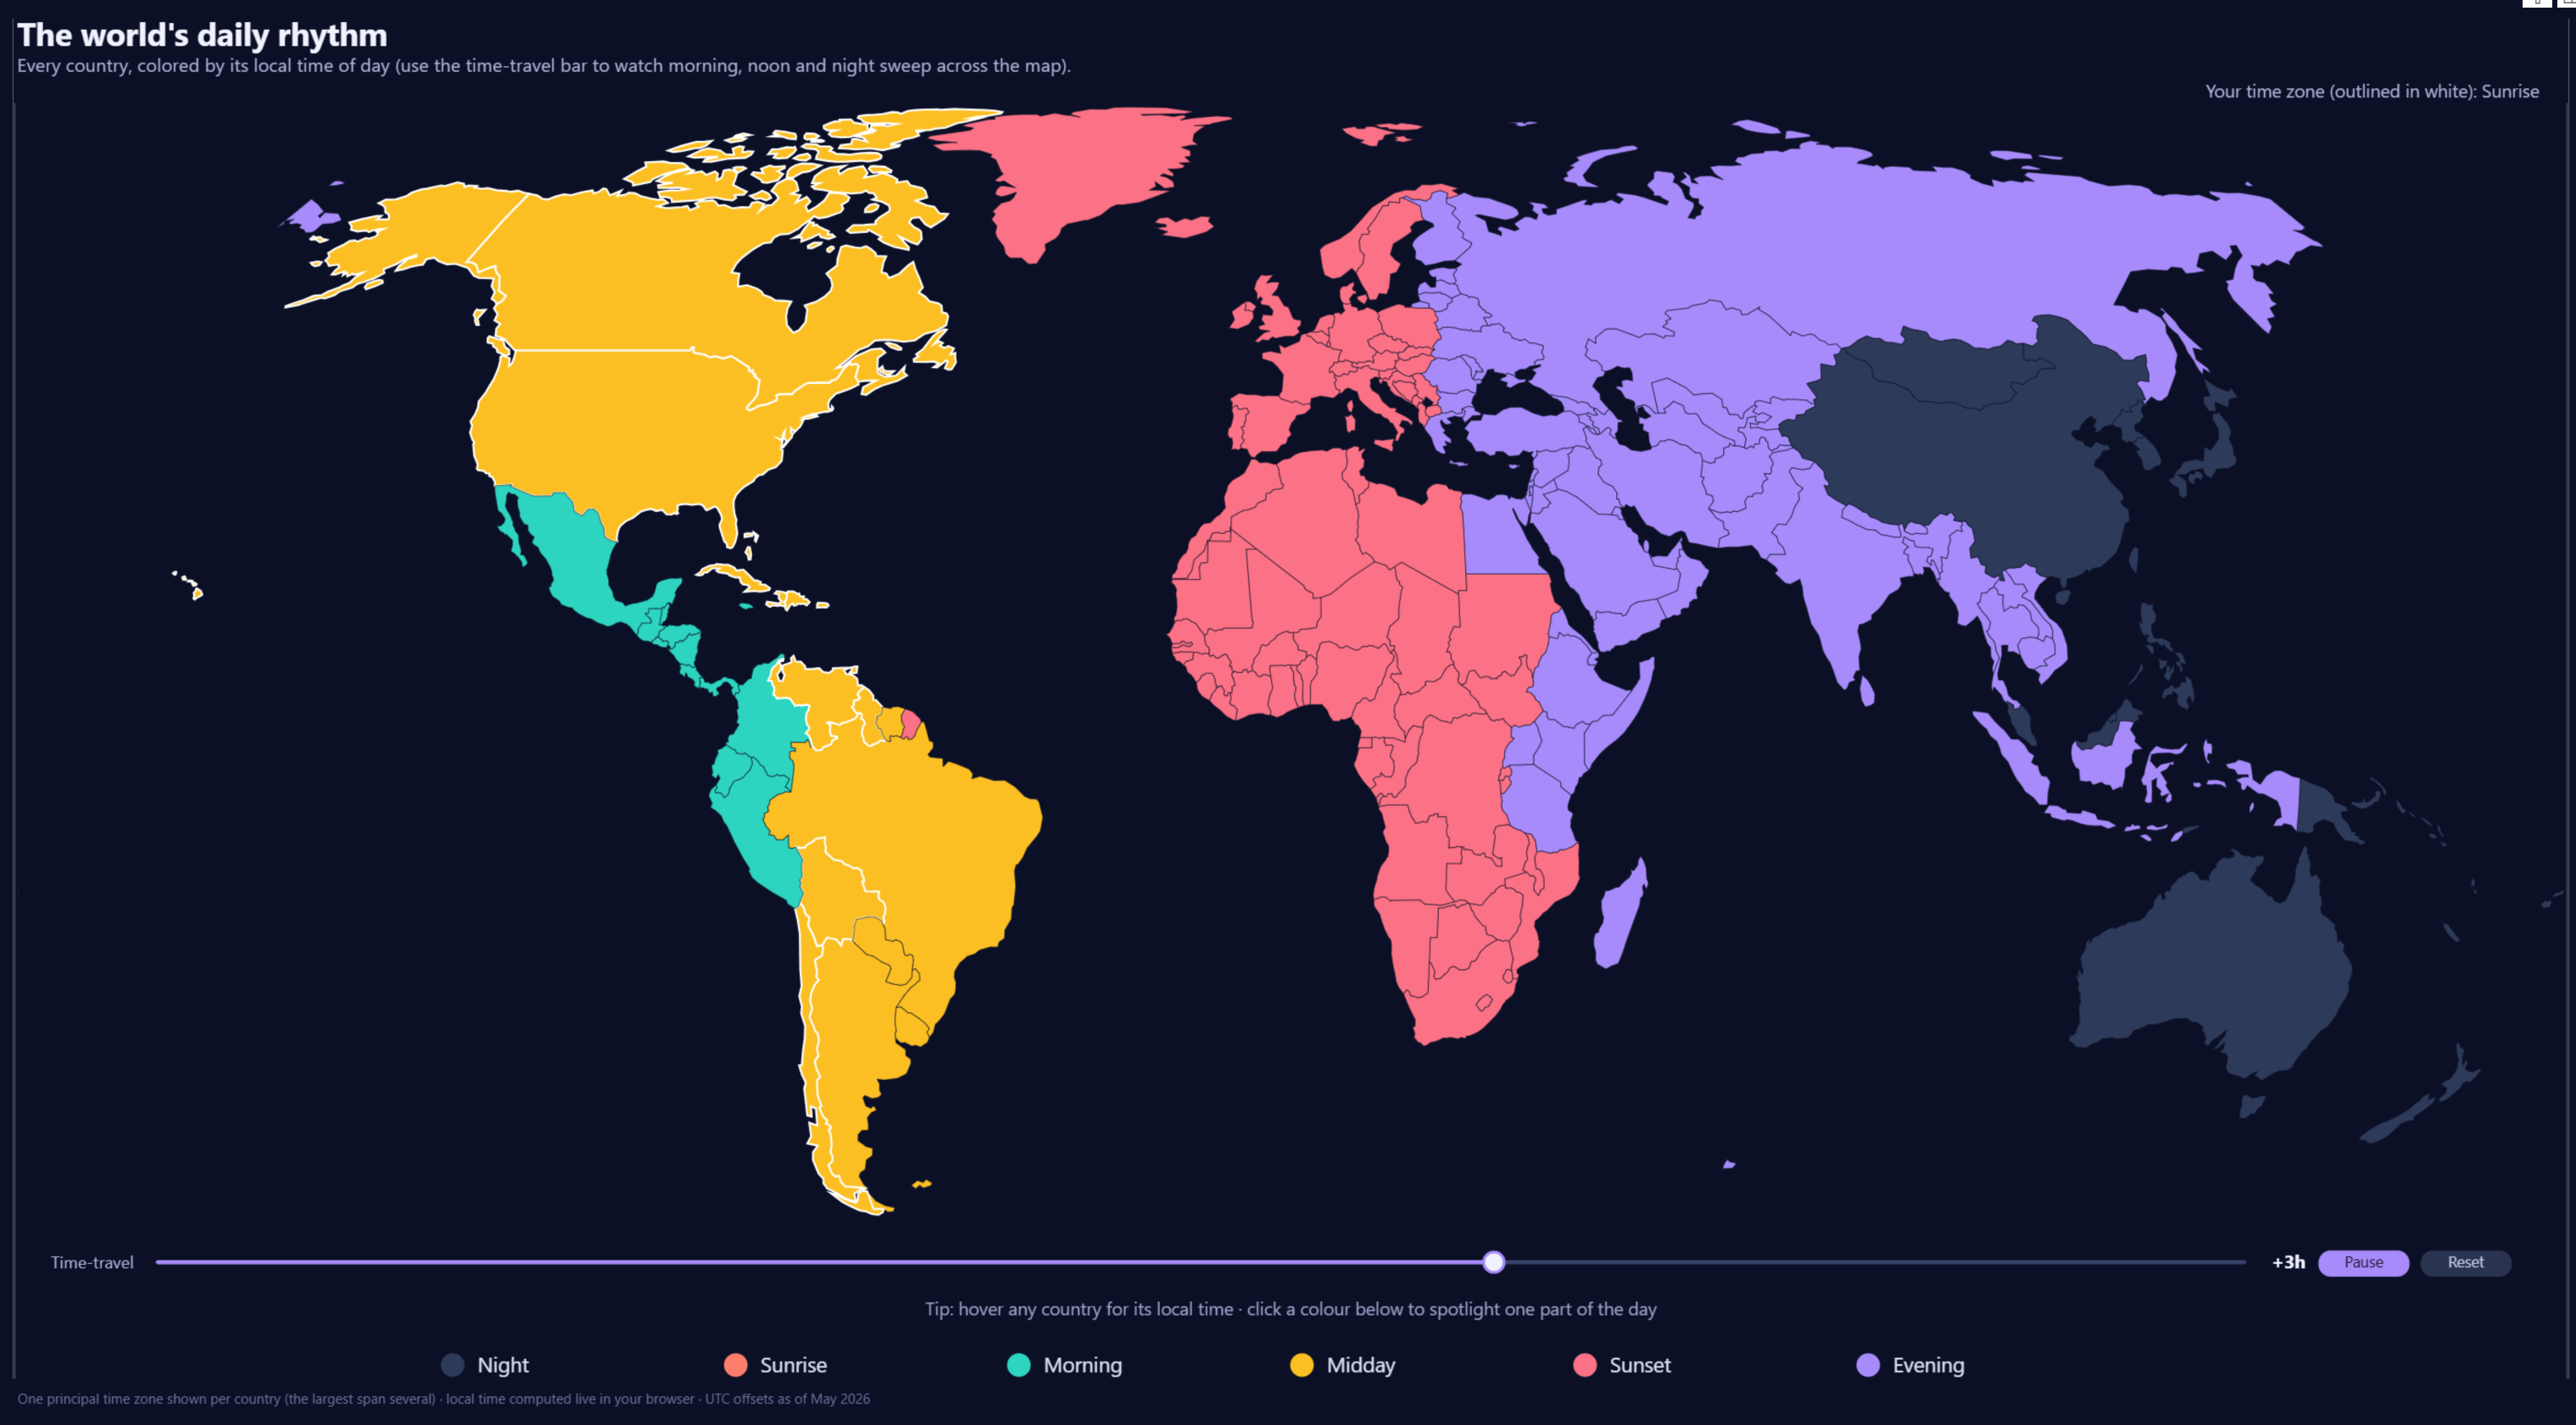

This screenshot's page, from the dashboard's own definition file:
{"tool":"powerbi","page":{"name":"Page 1","canvas":[1920,1080],"ordinal":0},"visuals":[{"type":"deneb7E15AEF80B9E4D4F8E12924291ECE89A","fields":{"dataset":["Countries.CountryId","Countries.UtcOffset","Countries.CountryName","Countries.Region"]},"box":[0,0,1920,1080],"z":0}]}

Visuals, with their boxes in screenshot pixels (x1, y1, x2, y2), scaled from the page's 1920x1080 canvas onto the 2576x1425 screenshot:
deneb7E15AEF80B9E4D4F8E12924291ECE89A - Countries.CountryId x Countries.UtcOffset: locate(0, 0, 2575, 1424)
